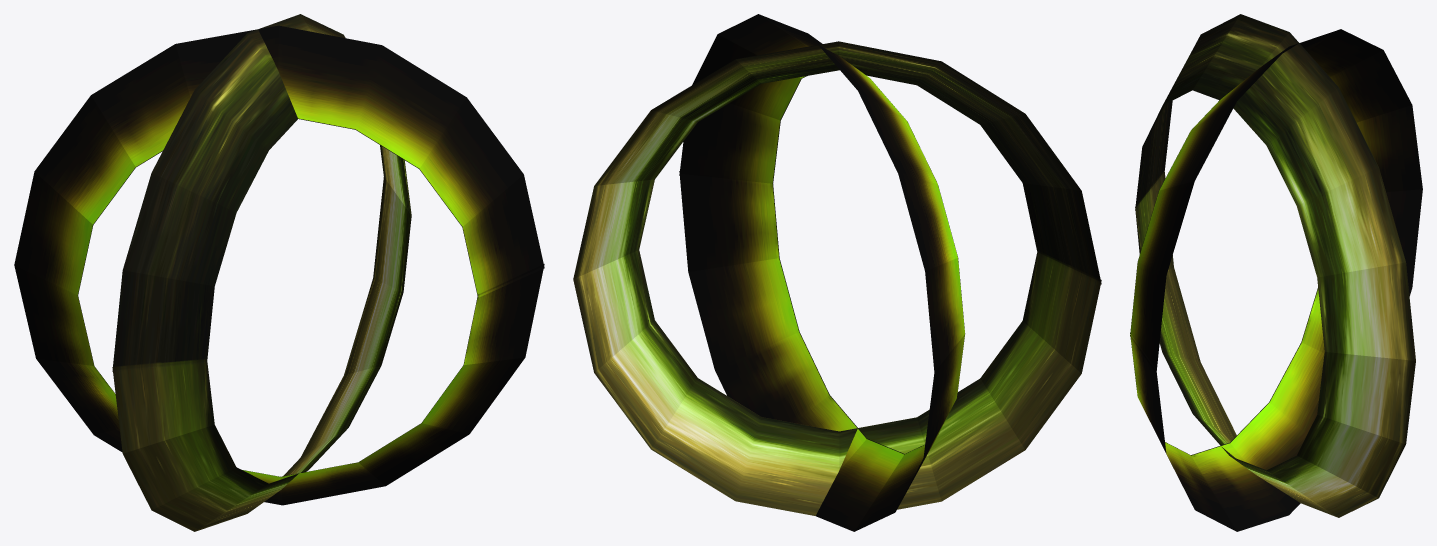
The model's file is tx_warrior_shenyong_keep.obj.
3 renders of one model, left to right at view 1: azimuth 30°, elevation 25°; view 2: azimuth 150°, elevation 25°; view 3: azimuth 270°, elevation 25°, orthographic. The views are drawn at different scales.
Visible parts, largest first — view 1: Plane02, Plane01; view 2: Plane01, Plane02; view 3: Plane01, Plane02.
Boxes of the visible parts, bbox=[...] form: Plane02: bbox=[14, 25, 544, 505]; Plane01: bbox=[112, 14, 411, 531]; Plane01: bbox=[573, 41, 1101, 515]; Plane02: bbox=[679, 14, 965, 531]; Plane01: bbox=[1135, 14, 1415, 517]; Plane02: bbox=[1130, 29, 1422, 531].
Size of the model in its own units: 56.98 by 61.17 by 34.77.
2 materials, 2 textured.
